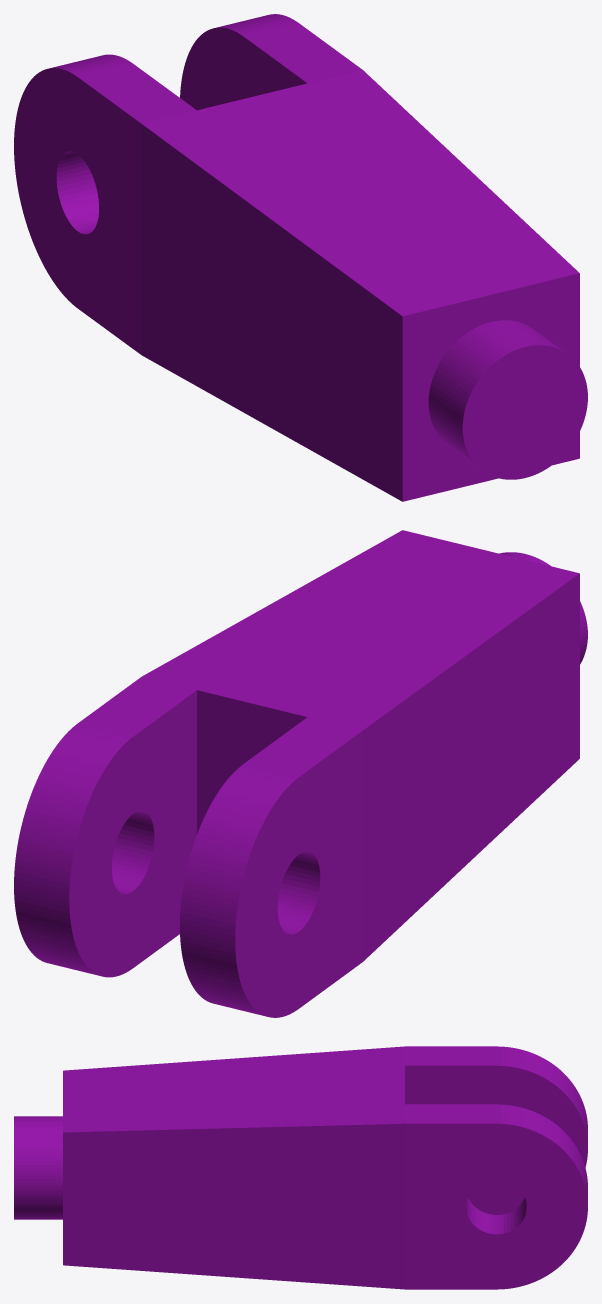
3 views of the same model, one above another, from view 1: azimuth 30°, elevation 25°; view 2: azimuth 150°, elevation 25°; view 3: azimuth 270°, elevation 25° (orthographic). The views are drawn at different scales.
Parts seen in each view (by area): view 1: node; view 2: node; view 3: node.
Part boxes in pixels (x1,y1,x2,y2): node: [14, 14, 587, 501]; node: [14, 530, 587, 1017]; node: [14, 1046, 587, 1289].
Size of the model in its own units: 0.0493 by 0.0493 by 0.1546.
